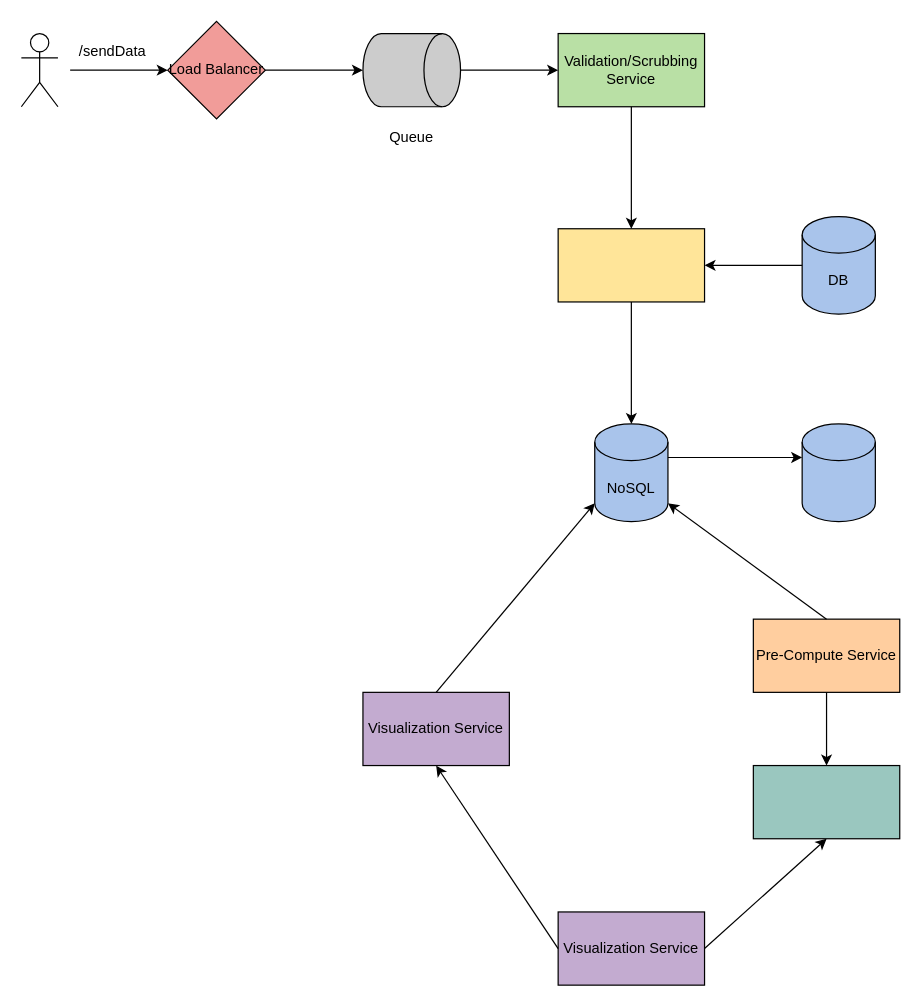
The diagram is 921 pixels wide and 1007 high, and some of its shapes have lost their labels. The centre of each missing label's shape, as x and y in pixels:
"Cache" goes at point (826, 801).
"Data Enrichment Service" goes at point (631, 265).
"Long-Term DB" goes at point (838, 472).
"Users" goes at point (39, 69).
